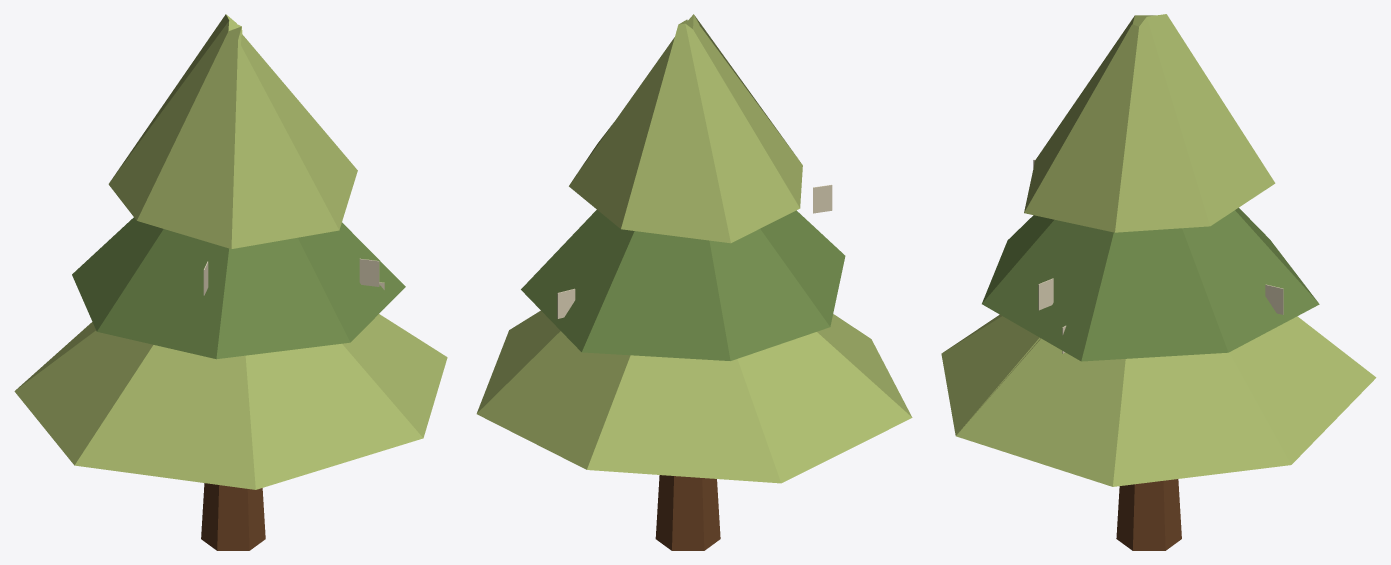
File: paper_tree0.glb
The picture shows the model from 3 angles, left to right: view 1: azimuth 30°, elevation 25°; view 2: azimuth 150°, elevation 25°; view 3: azimuth 270°, elevation 25°; orthographic projection.
Parts seen in each view (by area): view 1: paper_tree0; view 2: paper_tree0; view 3: paper_tree0.
Part boxes in pixels (bbox=[...]): paper_tree0: bbox=[14, 14, 447, 550]; paper_tree0: bbox=[476, 14, 912, 550]; paper_tree0: bbox=[941, 14, 1376, 550].
Size of the model in its own units: 2.21 by 2.83 by 2.12.
